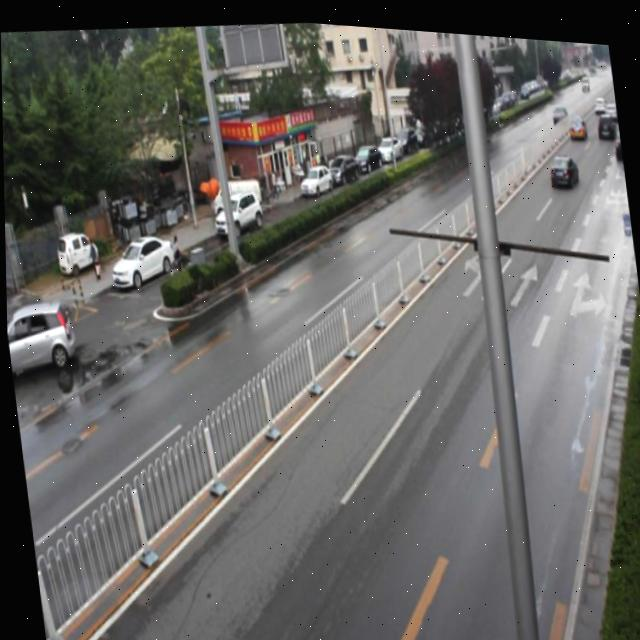car: (545, 141, 577, 179)
